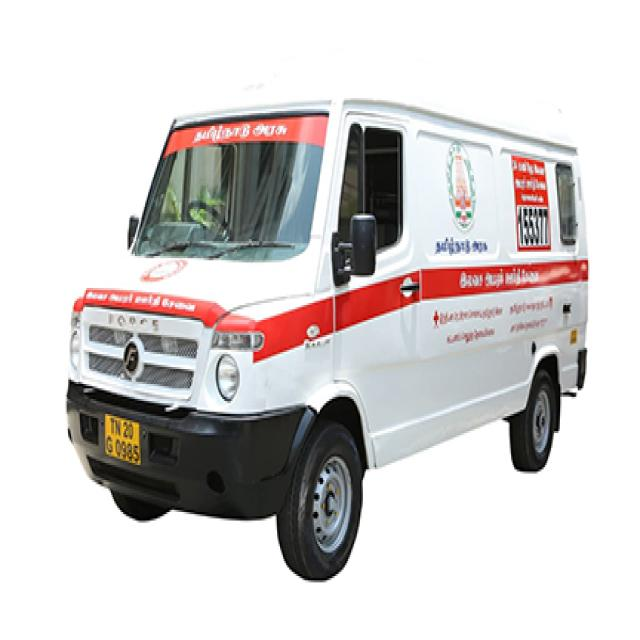ambulance: (67, 76, 591, 586)
